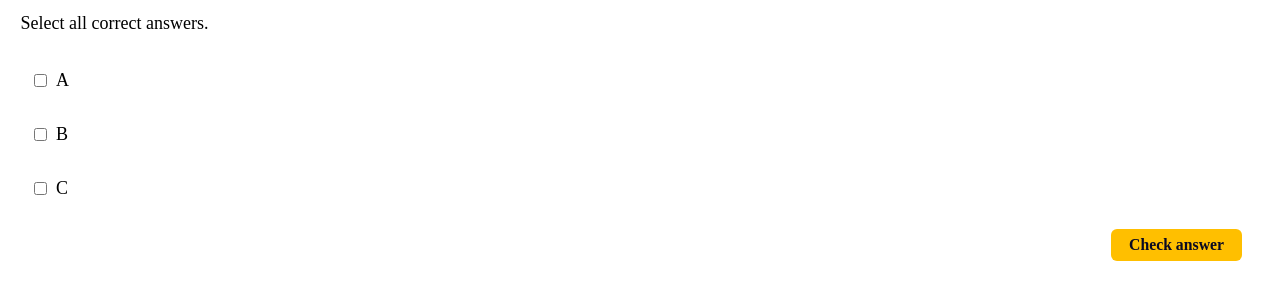
Test: SelectAll › shows unanswered feedback when checking without a selection
This screenshot has width=1263, height=282.
What coordinates should you click on to do the following:
click the button "Check answer"
I would click on:
 (1177, 245)
Its box is [1111,228,1242,261].
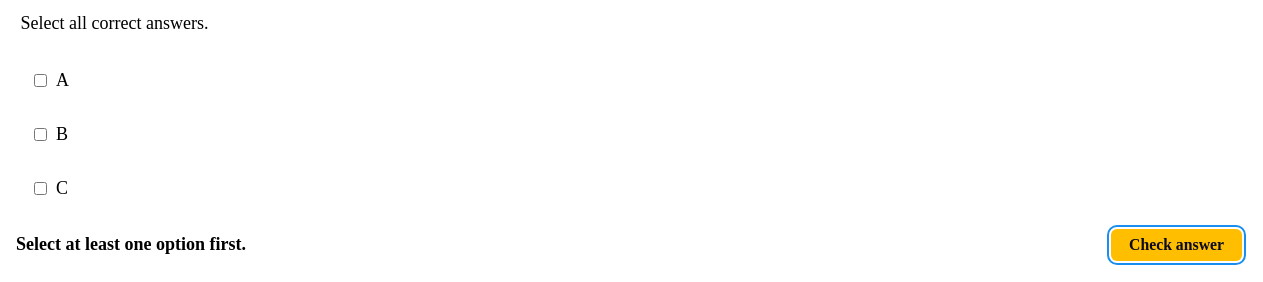
Result: the message reads "Select at least one option first." at [16,234,246,254]
